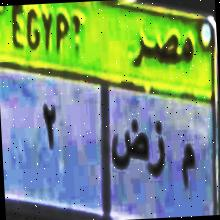2: (38, 96, 60, 158)
daad: (108, 116, 148, 176)
meem: (176, 132, 197, 199)
zay: (148, 120, 166, 182)
